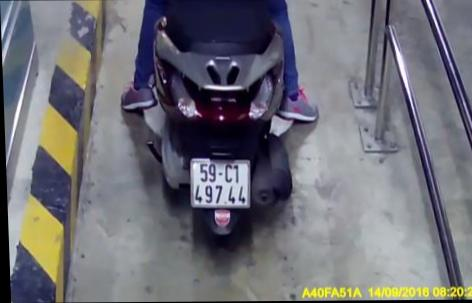LP: (187, 157, 251, 209)
